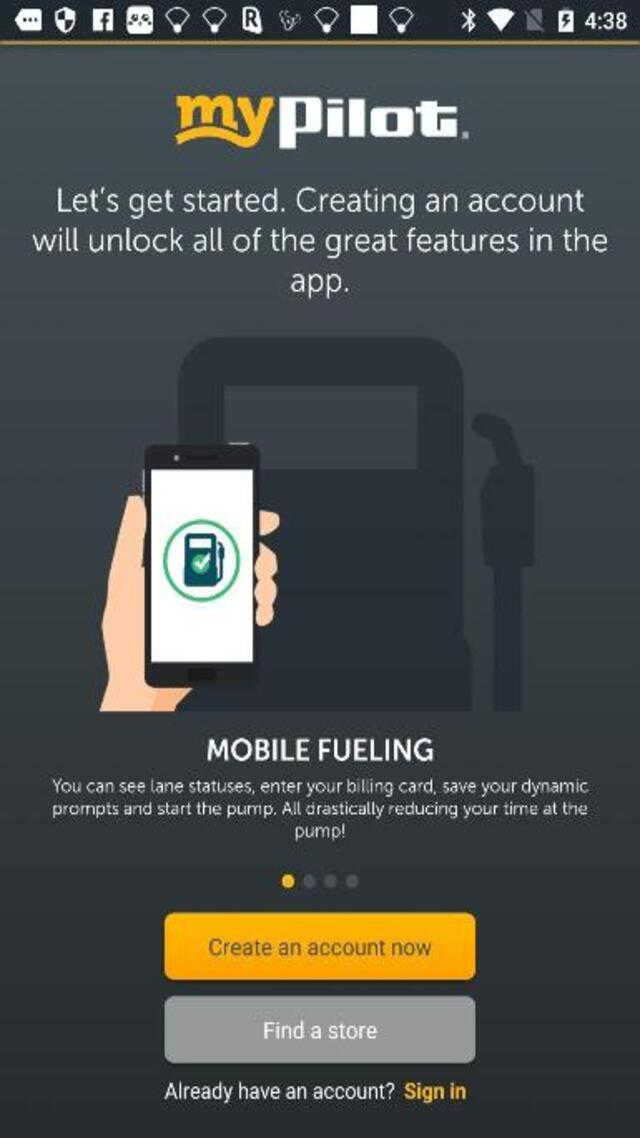Image: (98, 336, 534, 711), (176, 93, 470, 148)
Text: (28, 225, 614, 262), (50, 186, 593, 221), (48, 775, 597, 799), (44, 802, 596, 822), (203, 737, 438, 765), (207, 933, 436, 961), (164, 1080, 395, 1104), (257, 1020, 383, 1044), (283, 267, 354, 303), (290, 822, 351, 844), (404, 1082, 466, 1102)
TextButton: (162, 996, 476, 1064), (162, 913, 476, 979)
